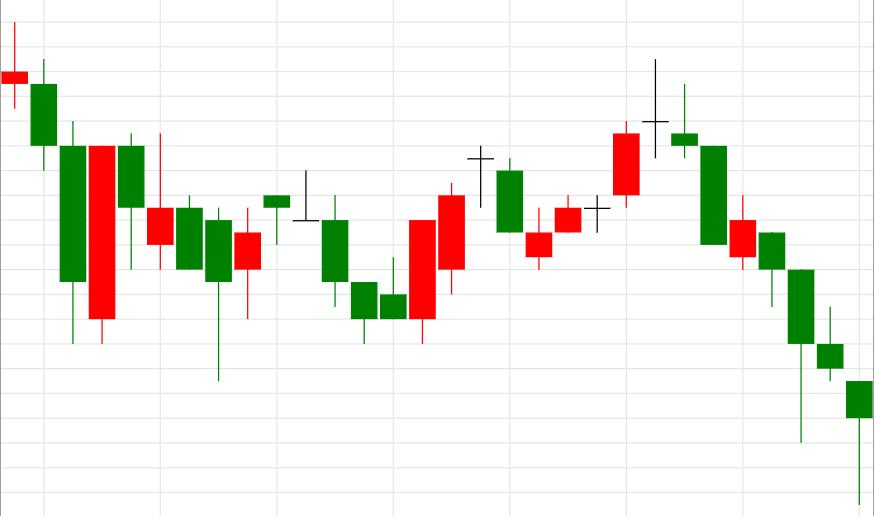hammer_rise: (670, 83, 873, 505)
